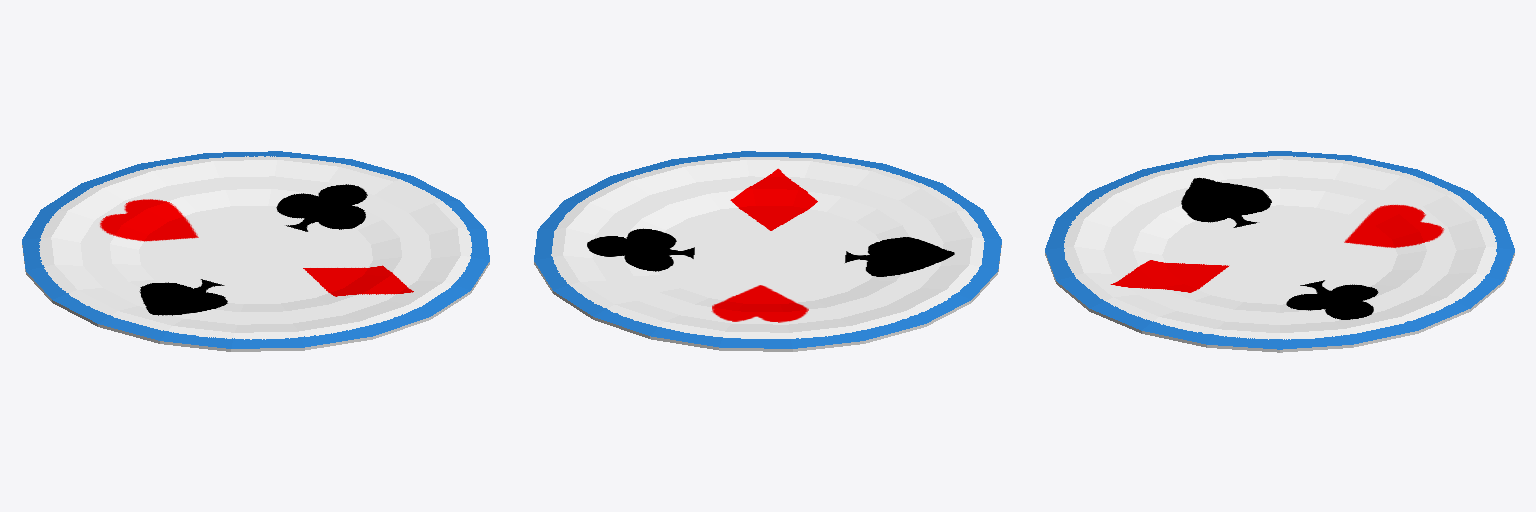
3 views of the same model, side by side, from view 1: azimuth 30°, elevation 25°; view 2: azimuth 150°, elevation 25°; view 3: azimuth 270°, elevation 25° (orthographic).
Parts seen in each view (by area): view 1: pCylinder4; view 2: pCylinder4; view 3: pCylinder4.
Part boxes in pixels (bbox=[...]): pCylinder4: bbox=[22, 151, 489, 351]; pCylinder4: bbox=[534, 151, 1001, 351]; pCylinder4: bbox=[1045, 151, 1514, 352].
Size of the model in its own units: 1.94 by 0.0878 by 1.94.
Materials: 1 (1 with a texture image).